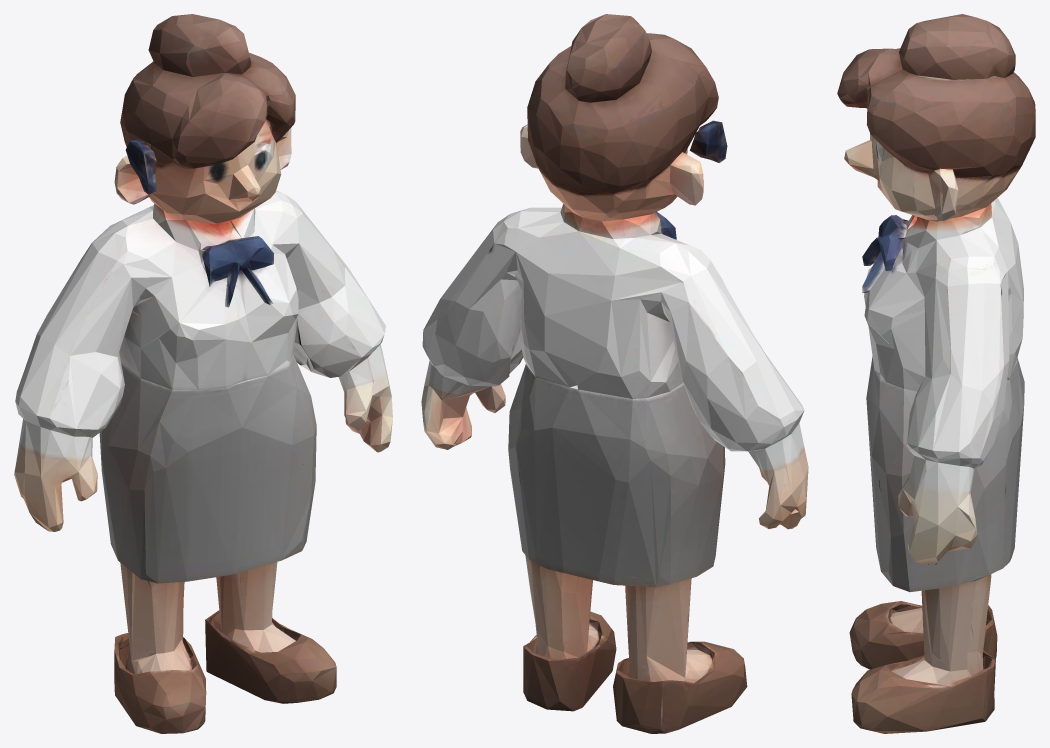
File: ruth.glb
3 views of the same model, side by side, from view 1: azimuth 30°, elevation 25°; view 2: azimuth 150°, elevation 25°; view 3: azimuth 270°, elevation 25° (orthographic). The views are drawn at different scales.
Parts seen in each view (by area): view 1: geometry_0; view 2: geometry_0; view 3: geometry_0.
Part boxes in pixels (x1=…): geometry_0: x1=14, y1=14, x2=392, y2=733; geometry_0: x1=421, y1=14, x2=808, y2=733; geometry_0: x1=837, y1=14, x2=1035, y2=733.
Bounding box in the file's own units: 0.5755 × 0.9991 × 0.269.
1 material, 1 textured.
